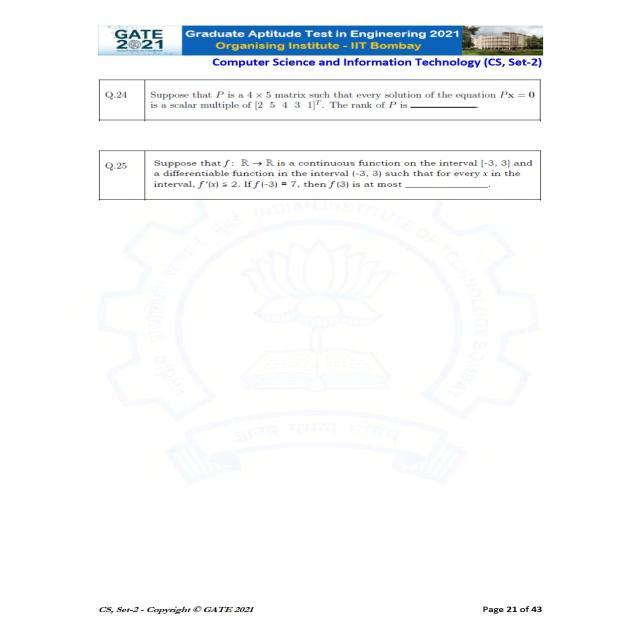Question_Answer_Block: (66, 141, 564, 207), (66, 69, 564, 132)
Question_Block: (66, 141, 564, 207), (66, 69, 564, 132)
Question_Paper_Area: (66, 68, 564, 235)
